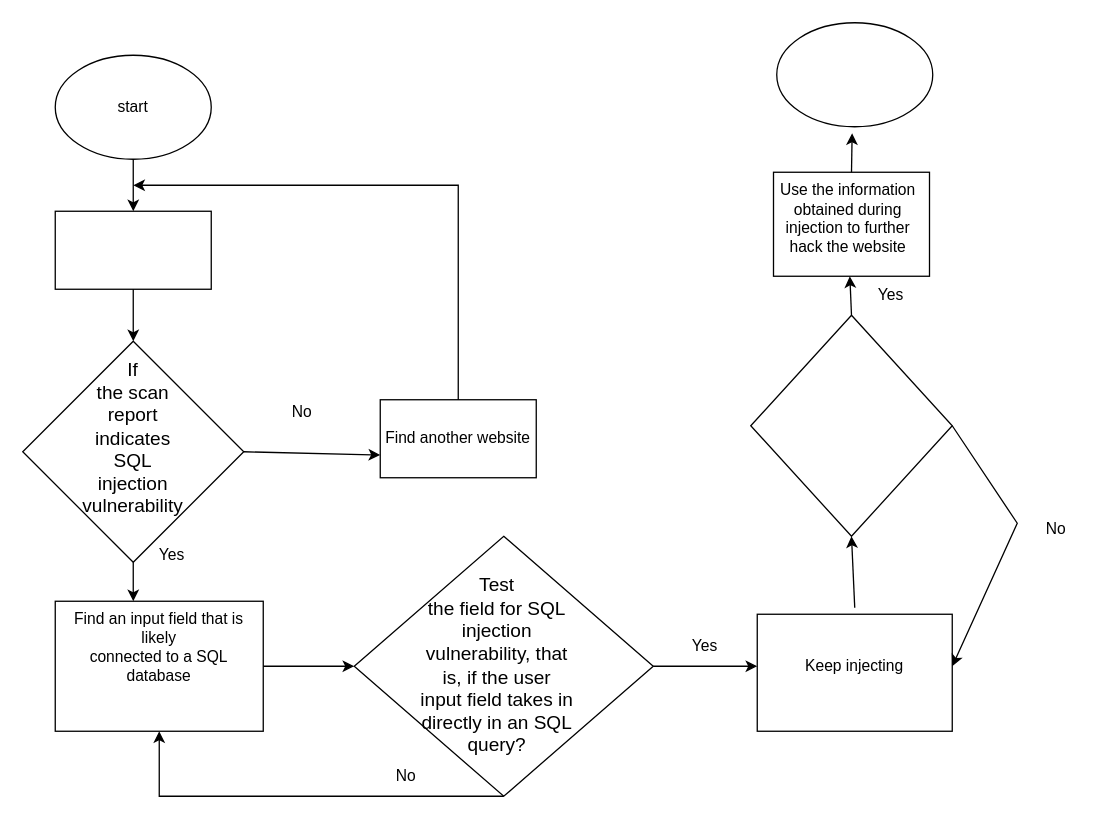
Some shapes in this 1118 by 829 pixel diagram are drawn without their labels. Here are the shapes that lost their labels. From the top down, the centre of each, then its label:
At pixel 854 74: "Stop".
At pixel 132 249: "Use a vulnerability scanner such as ZAP to scan the website".
At pixel 850 425: "Get enough info yet (such as complete administrator’s login info)?".
